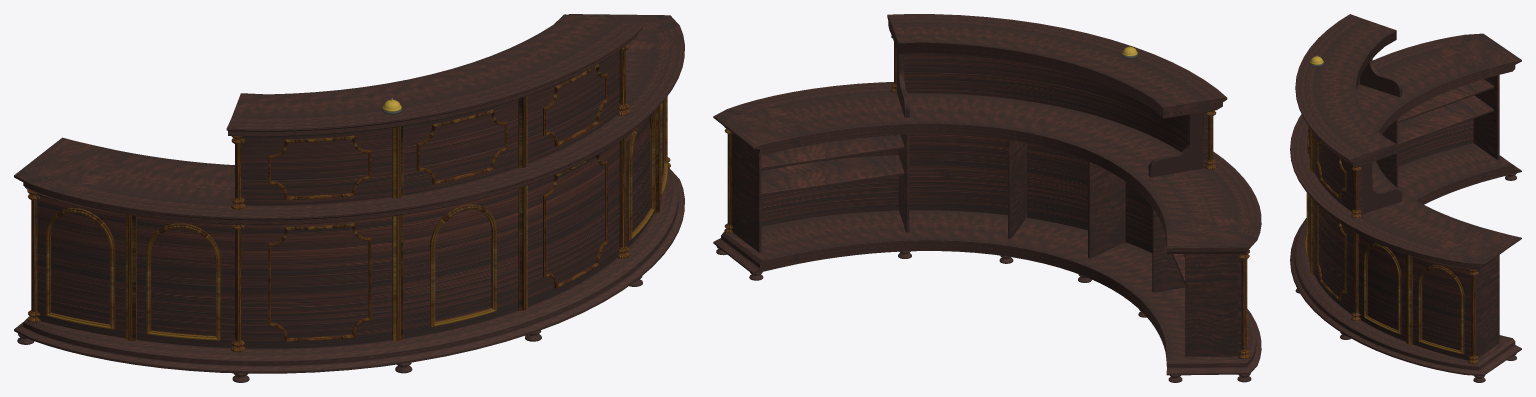
File: Reception_desk.fbx_Collection.fbx
The picture shows the model from 3 angles, left to right: view 1: azimuth 30°, elevation 25°; view 2: azimuth 150°, elevation 25°; view 3: azimuth 270°, elevation 25°; orthographic projection. The views are drawn at different scales.
Parts seen in each view (by area): view 1: Base, Ornaments; view 2: Base, Ornaments; view 3: Base, Ornaments.
Boxes of the visible parts, x1,y1,x2,y2 form: Base: [14, 14, 684, 382]; Ornaments: [27, 44, 670, 352]; Base: [713, 14, 1261, 382]; Ornaments: [724, 35, 1249, 359]; Base: [1290, 14, 1521, 382]; Ornaments: [1305, 126, 1478, 363].
Size of the model in its own units: 300 by 115 by 127.
